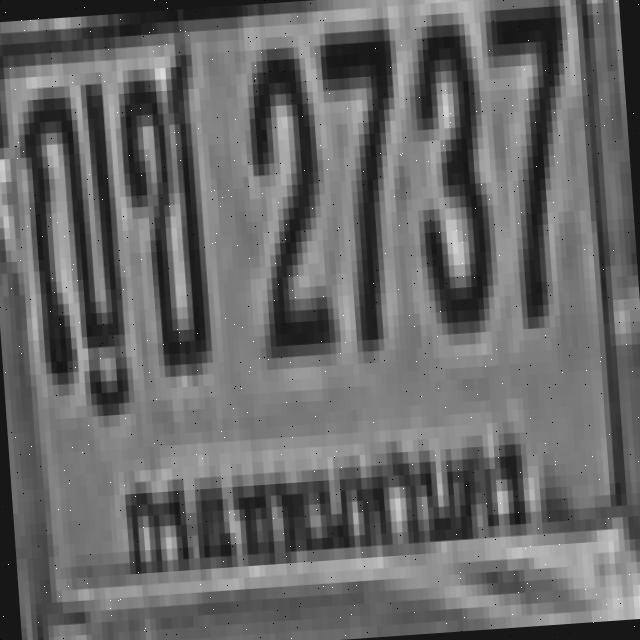19ChorChang: (112, 31, 210, 368)
2: (238, 35, 324, 347)
22YorYing: (12, 77, 124, 380)
3: (403, 1, 490, 324)
7: (312, 6, 405, 342), (477, 0, 575, 318)
Bangkok: (114, 423, 548, 592)
